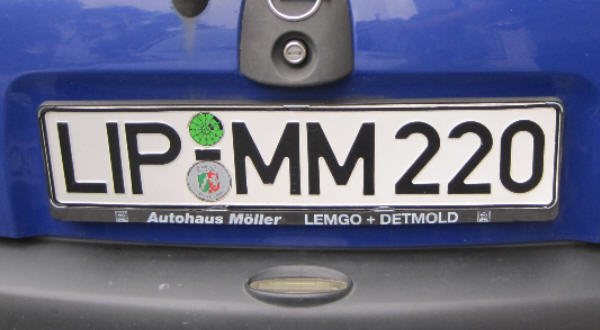license_plate: (39, 106, 562, 210)
